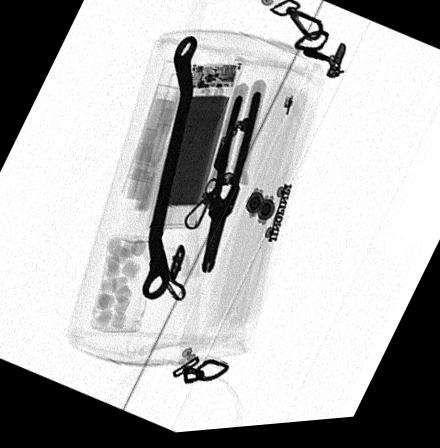Pliers: (201, 95, 262, 278)
Powerbank: (146, 68, 239, 232)
Wrench: (140, 41, 196, 302)
